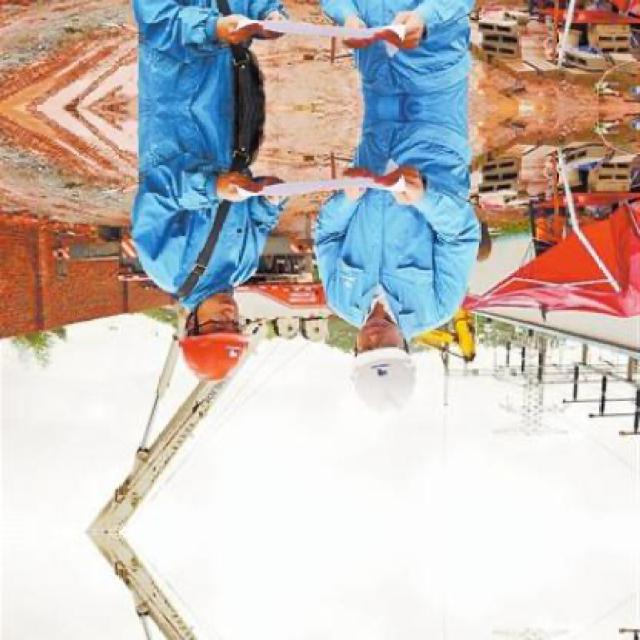con casco: (138, 259, 308, 422), (329, 307, 439, 421)
